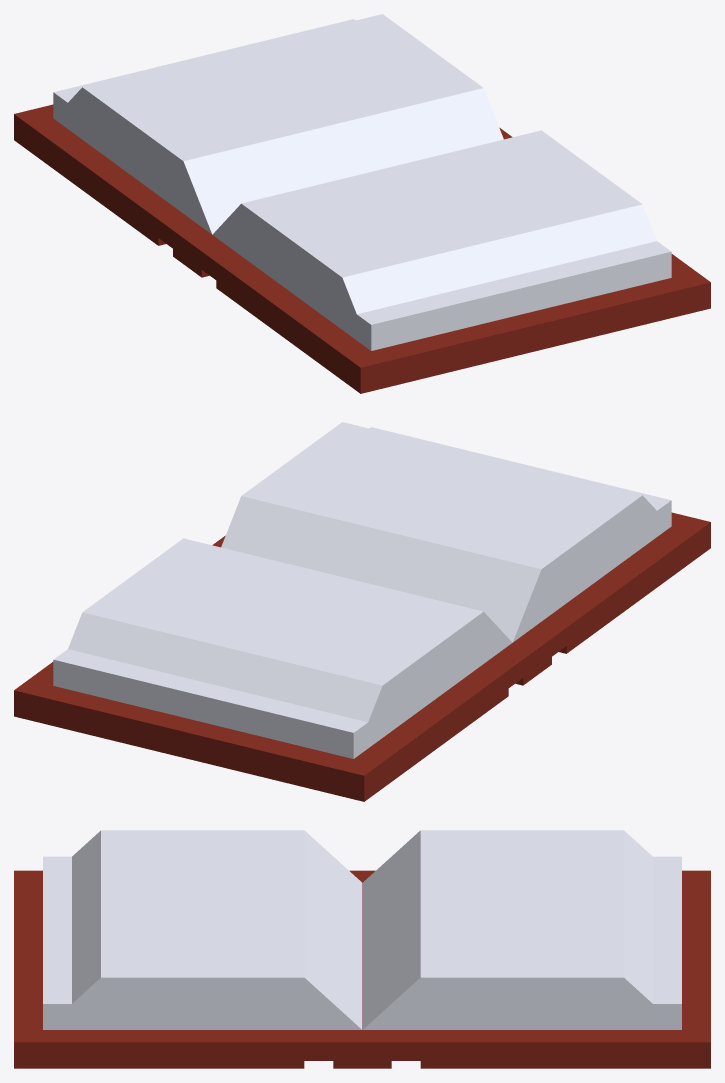
The model's file is OpenBook2.fbx.
The picture shows the model from 3 angles, top to bottom: view 1: azimuth 30°, elevation 25°; view 2: azimuth 150°, elevation 25°; view 3: azimuth 270°, elevation 25°; orthographic projection.
Visible parts, largest first — view 1: mergedBlocks; view 2: mergedBlocks; view 3: mergedBlocks.
Part boxes in pixels (x1,y1,x2,y2): mergedBlocks: (14, 14, 710, 393); mergedBlocks: (14, 422, 710, 801); mergedBlocks: (14, 830, 710, 1068).
Size of the model in its own units: 2.52 by 0.54 by 4.32.
